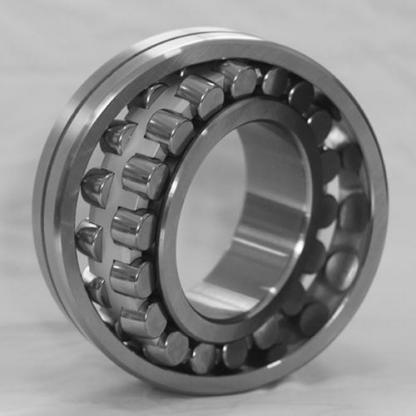FOD: (29, 24, 399, 404)
